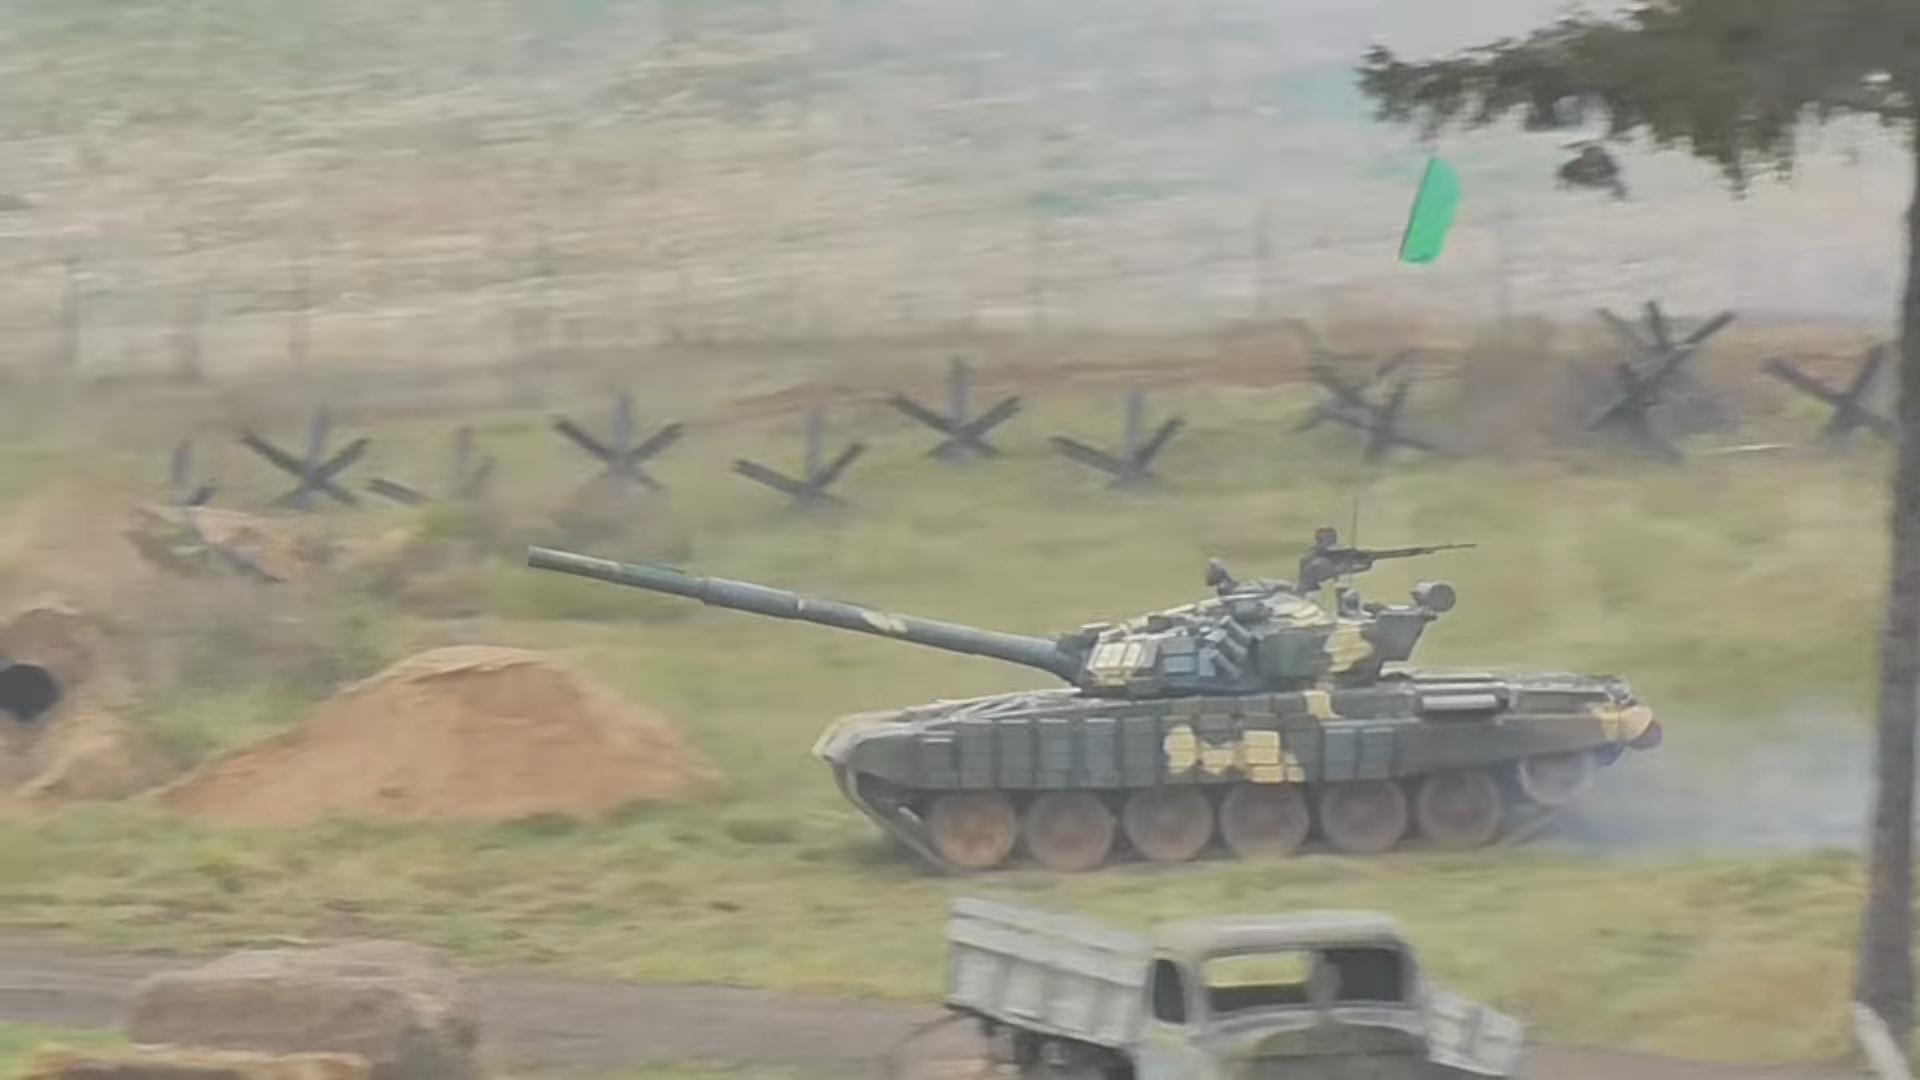tank: (528, 525, 1663, 874)
